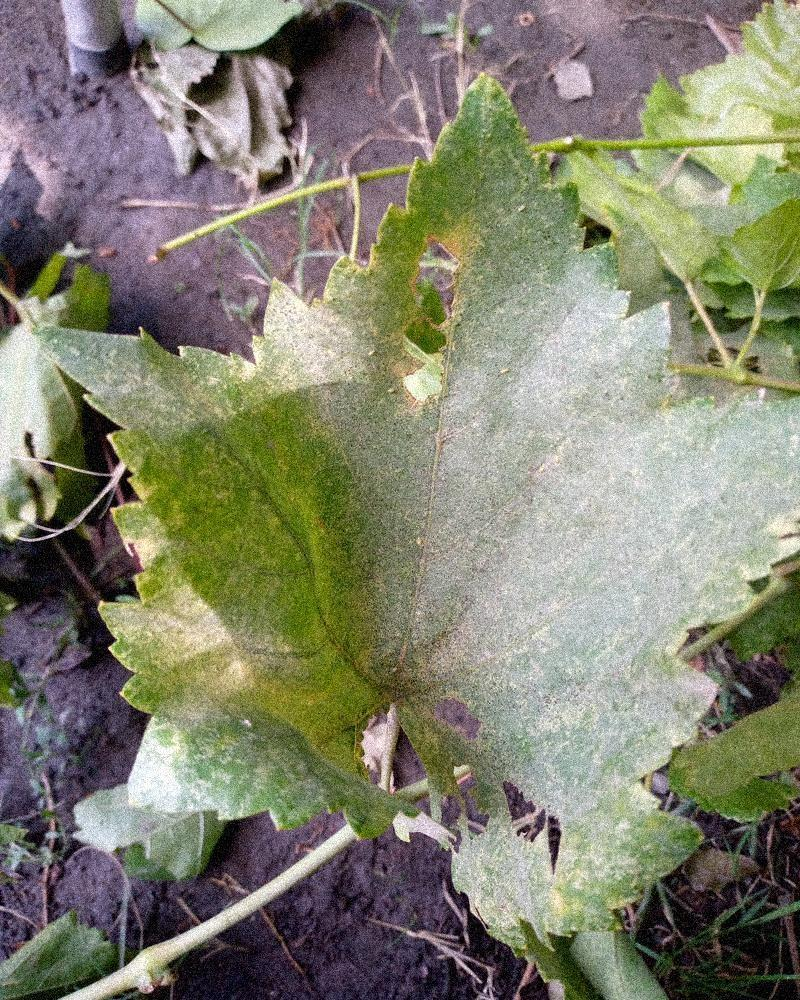Powdery-Mildew: (472, 285, 662, 499)
